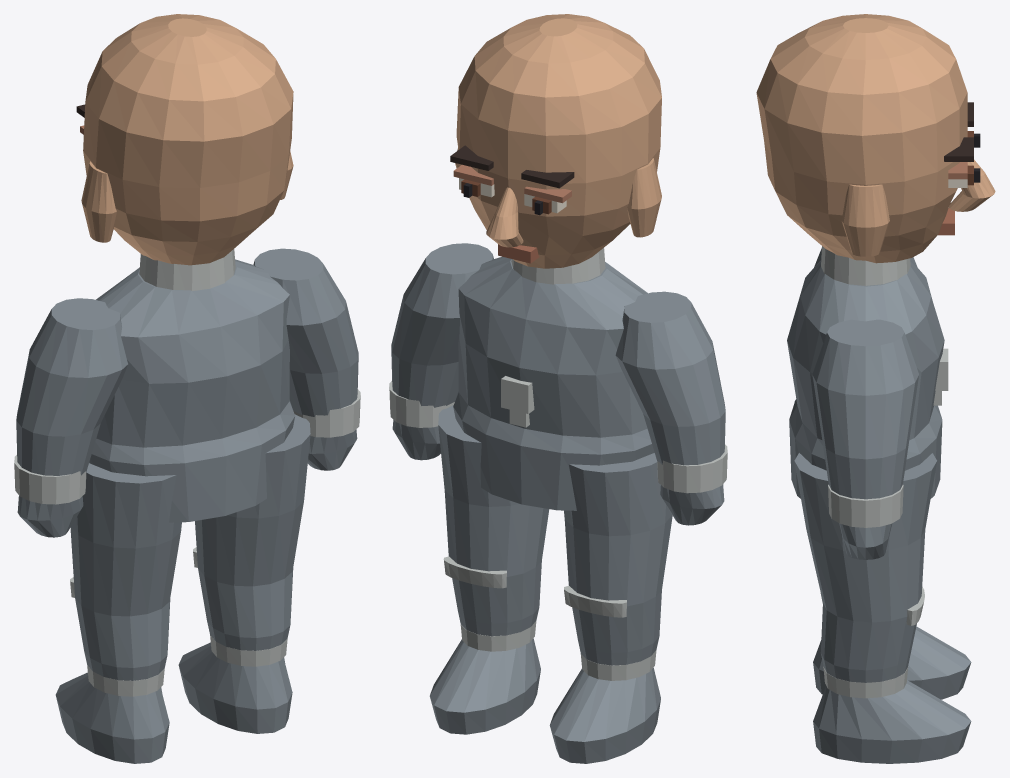
Rendered from visual-far.glb.
3 renders of one model, left to right at view 1: azimuth 30°, elevation 25°; view 2: azimuth 150°, elevation 25°; view 3: azimuth 270°, elevation 25°, orthographic. The views are drawn at different scales.
Visible parts, largest first — view 1: 精细体素婴儿身体母版, 精细婴幼儿头部母版; view 2: 精细体素婴儿身体母版, 精细婴幼儿头部母版; view 3: 精细体素婴儿身体母版, 精细婴幼儿头部母版.
Boxes of the visible parts, box(x1,y1,x2,y2) form: 精细体素婴儿身体母版: box(14, 248, 360, 763); 精细婴幼儿头部母版: box(76, 14, 293, 265); 精细体素婴儿身体母版: box(389, 243, 727, 763); 精细婴幼儿头部母版: box(450, 14, 661, 268); 精细体素婴儿身体母版: box(787, 246, 971, 763); 精细婴幼儿头部母版: box(756, 14, 995, 263).
Bounding box in the file's own units: 0.3013 × 0.6 × 0.188.
9 materials, 9 textured.
